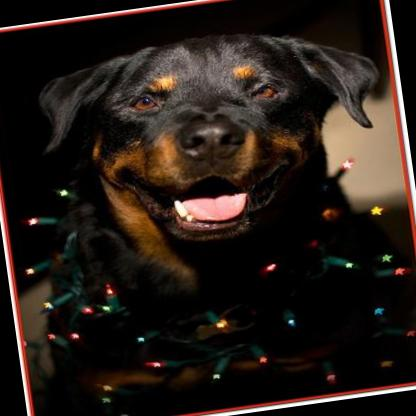Rottweiler: (0, 9, 416, 416)
